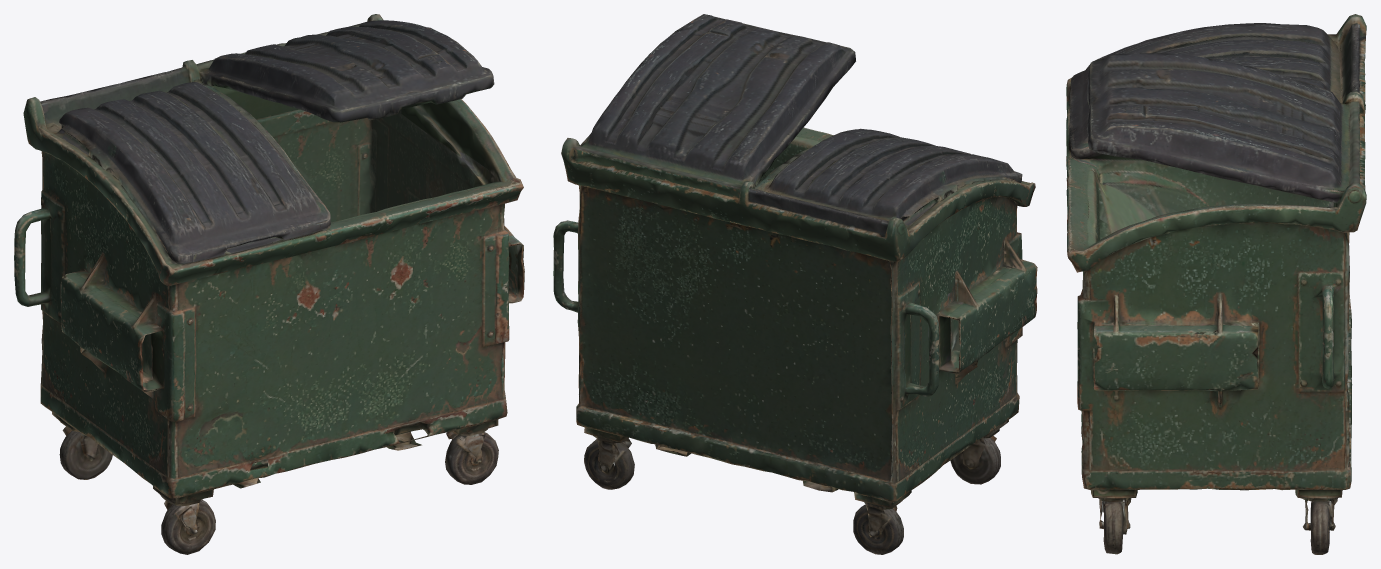
File: Dumpster.glb
3 renders of one model, left to right at view 1: azimuth 30°, elevation 25°; view 2: azimuth 150°, elevation 25°; view 3: azimuth 270°, elevation 25°, orthographic. The views are drawn at different scales.
Parts seen in each view (by area): view 1: texture_mapping; view 2: texture_mapping; view 3: texture_mapping.
Part boxes in pixels (<box>): texture_mapping: <box>14,14,524,554</box>; texture_mapping: <box>553,14,1037,554</box>; texture_mapping: <box>1066,14,1366,554</box>.
Bounding box in the file's own units: 1 × 1 × 0.6353.
1 material, 1 textured.
